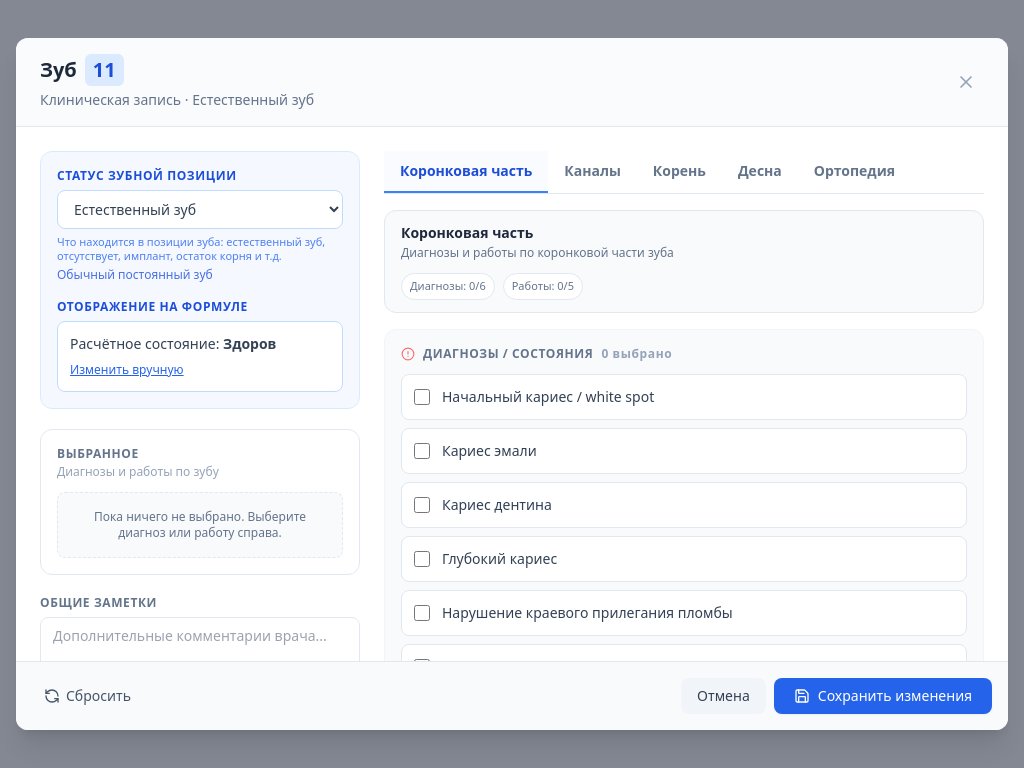
Test case: ToothEditorModal › removes selected diagnosis from the summary chip
What coordinates should you click on to do the following:
click the label "Кариес эмали"
I would click on:
 (489, 450)
Its box is [401, 428, 967, 474].
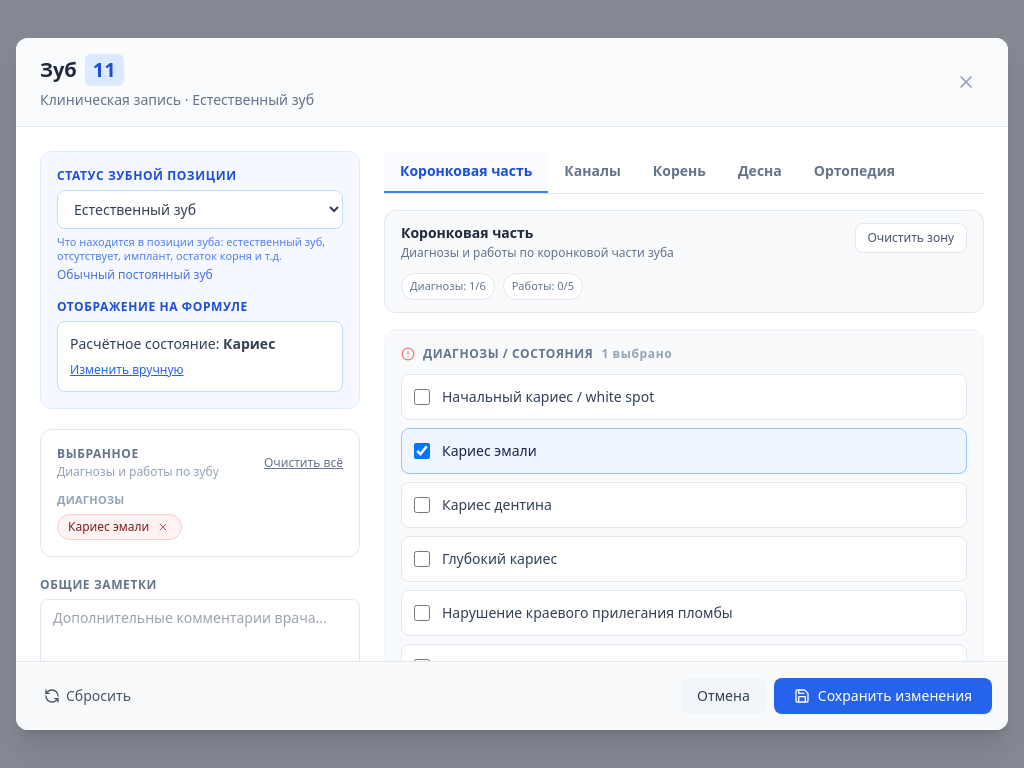
What coordinates should you click on to do the following:
click the button named "Убрать: Кариес эмали"
I would click on:
 (163, 527)
Its box is [155, 519, 171, 535].
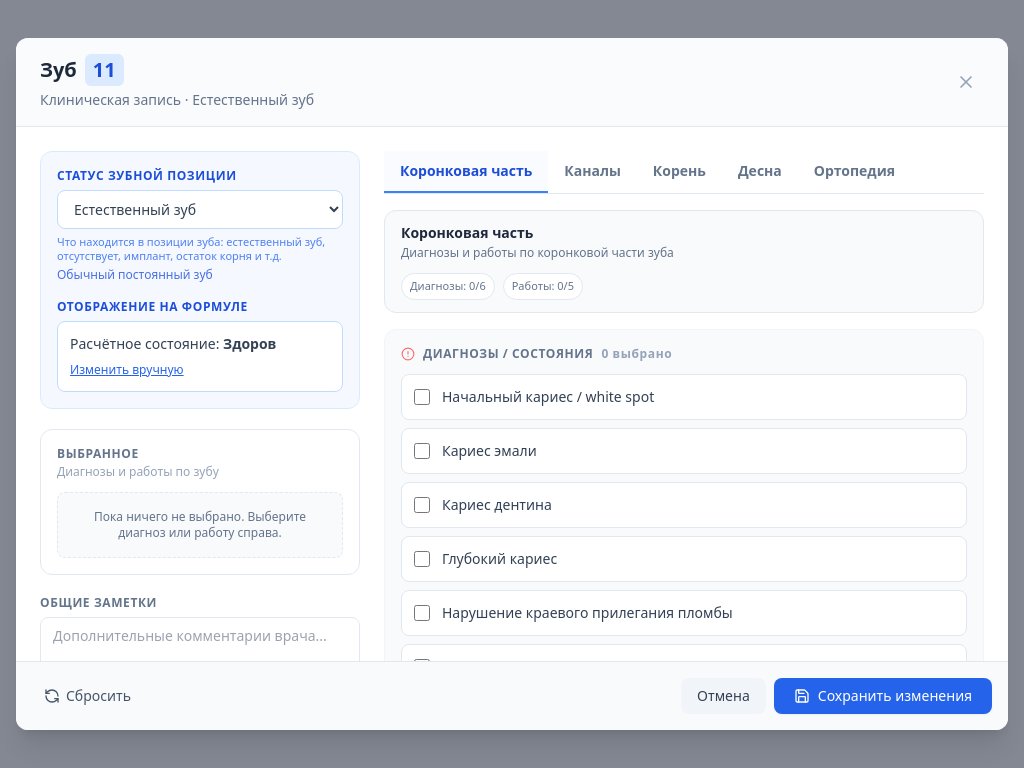
Now the text "Пока ничего не выбрано" is shown, box [94, 508, 306, 541]
